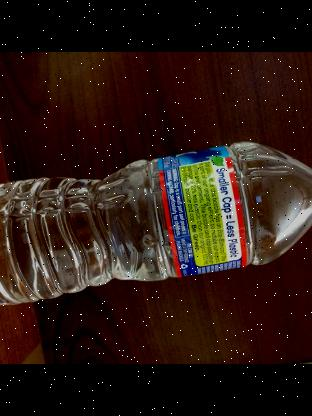Plastic Bottle: (0, 141, 312, 305)
